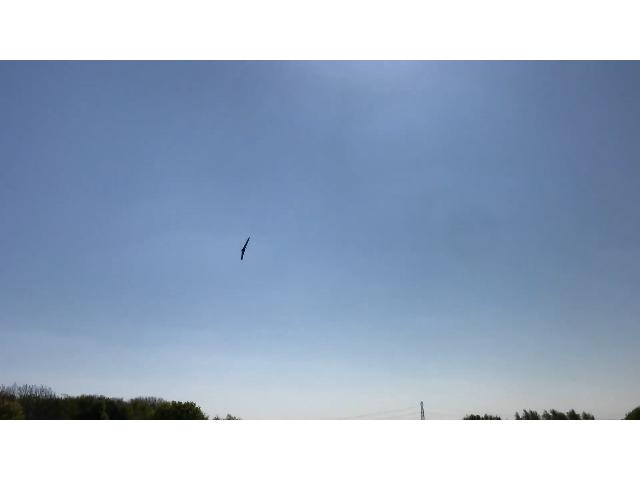Anti-Drone: (231, 221, 267, 265)
